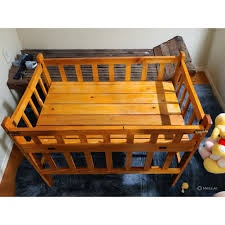crib: (2, 52, 211, 185)
